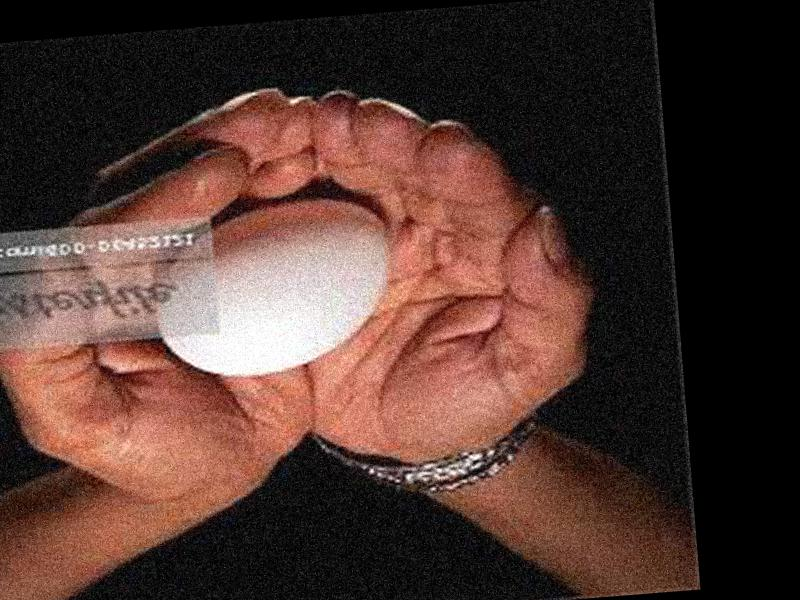Eggs: (157, 191, 401, 379)
